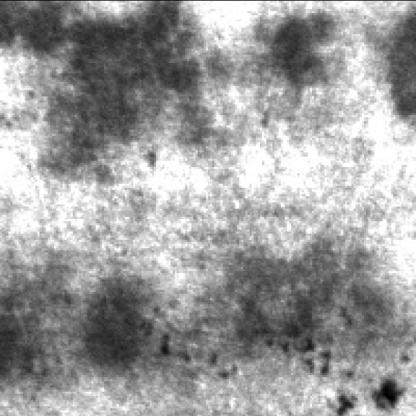inclusion: (333, 364, 412, 412)
patches: (13, 0, 214, 173), (216, 237, 414, 368), (79, 270, 164, 376), (4, 297, 73, 389), (271, 8, 342, 90), (383, 4, 416, 123)
